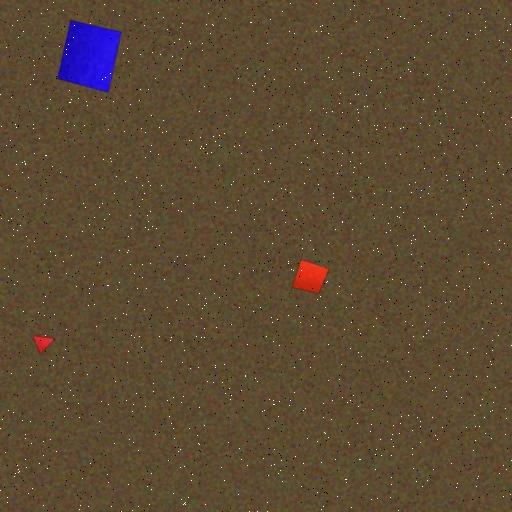BLUE_SQUARE: (57, 19, 122, 94)
RED_SQUARE: (292, 260, 330, 294)
